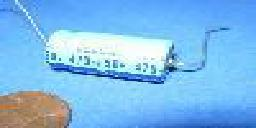Electrolytic-Capacitor: (22, 4, 236, 89)
